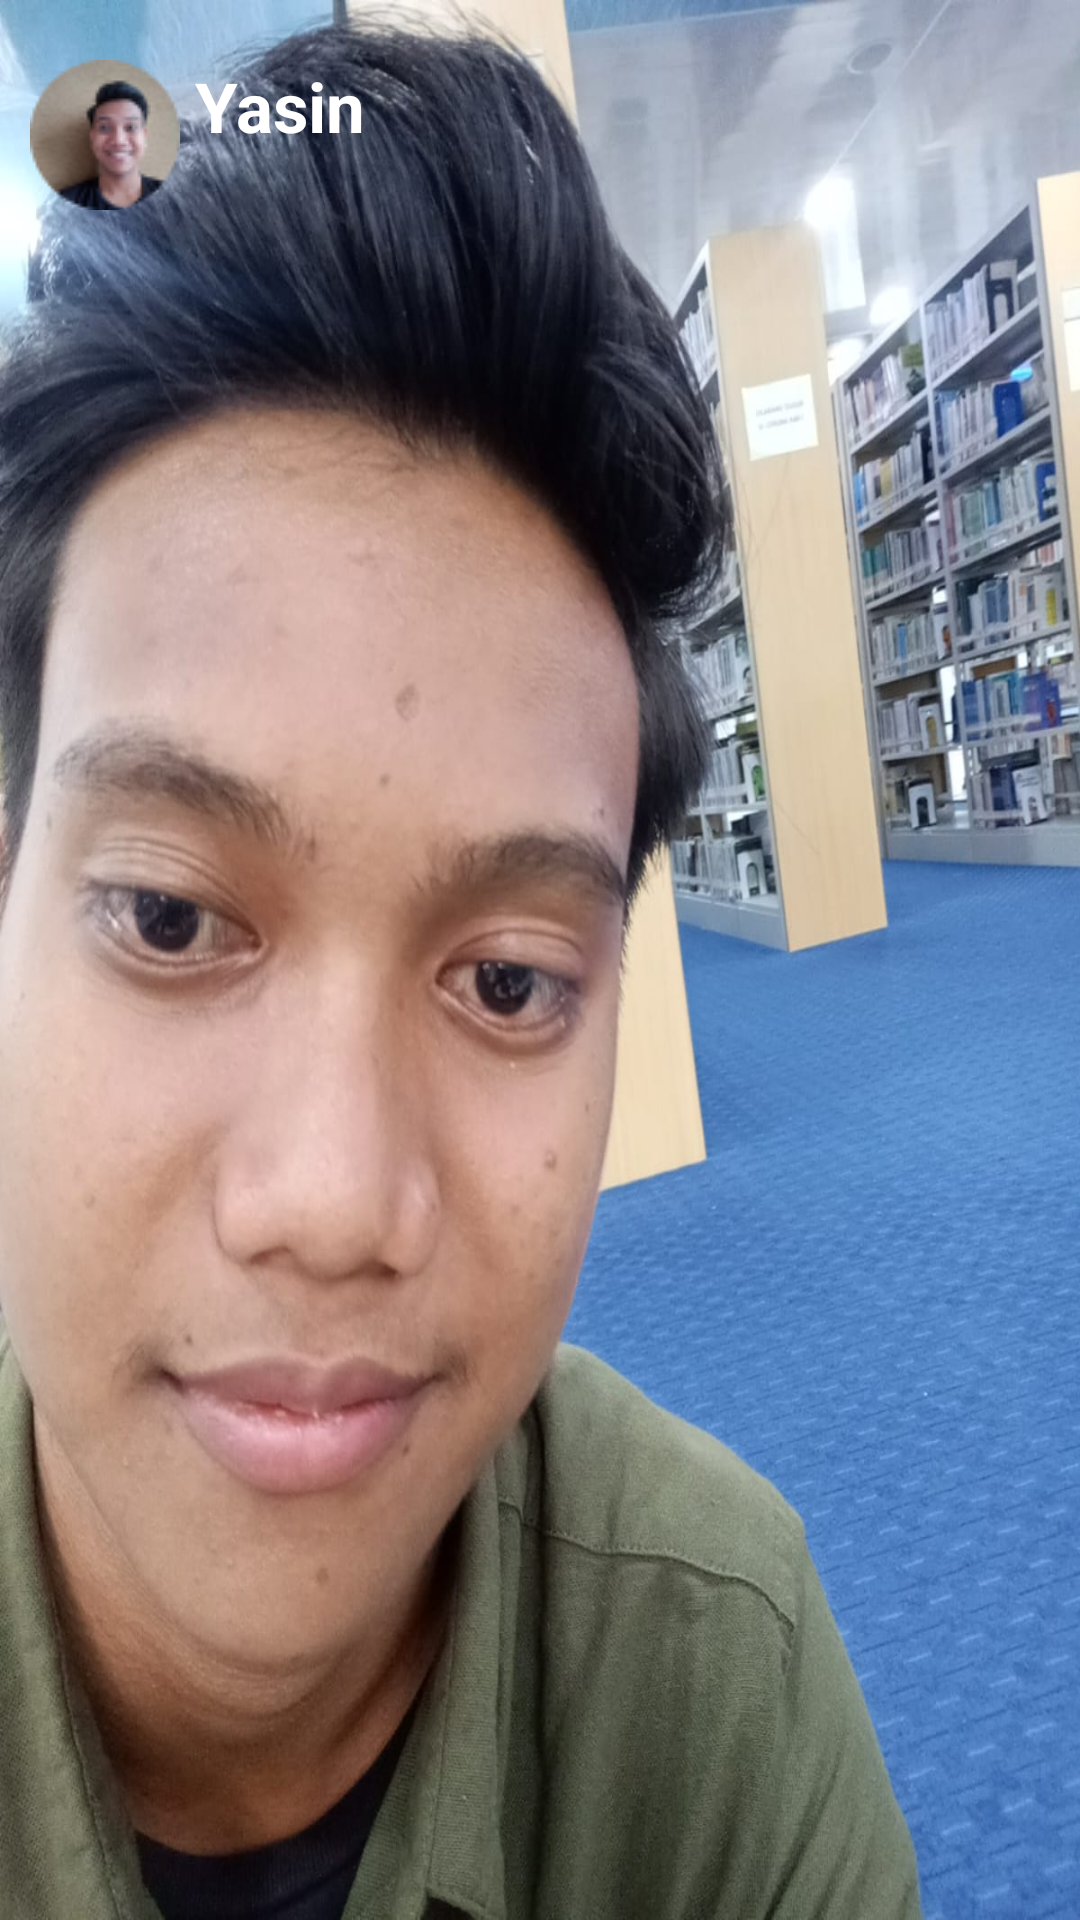

Screen size 1080px x 1920px. Icon name, then its center in pixels as (x=x, y=y):
chatprofil: (x=105, y=135)
